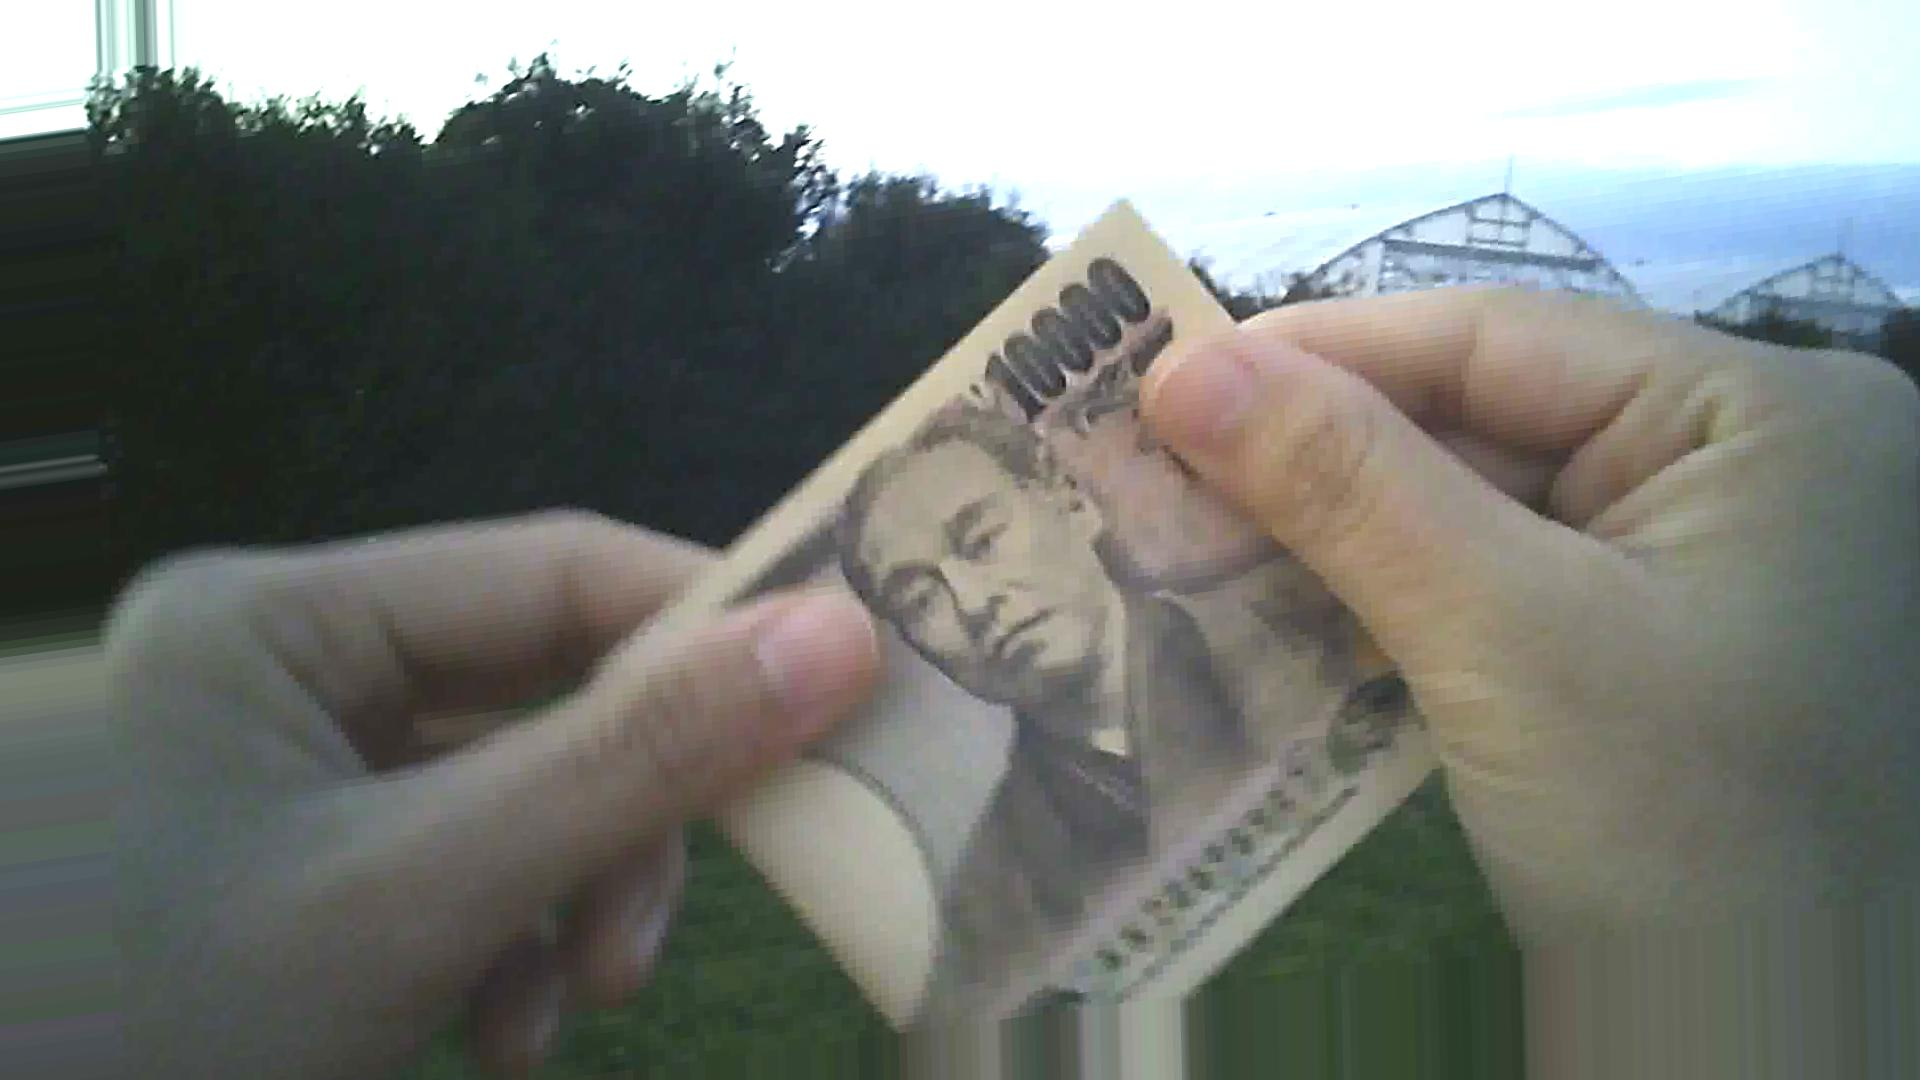10,000 Yen: (553, 233, 1485, 1022)
